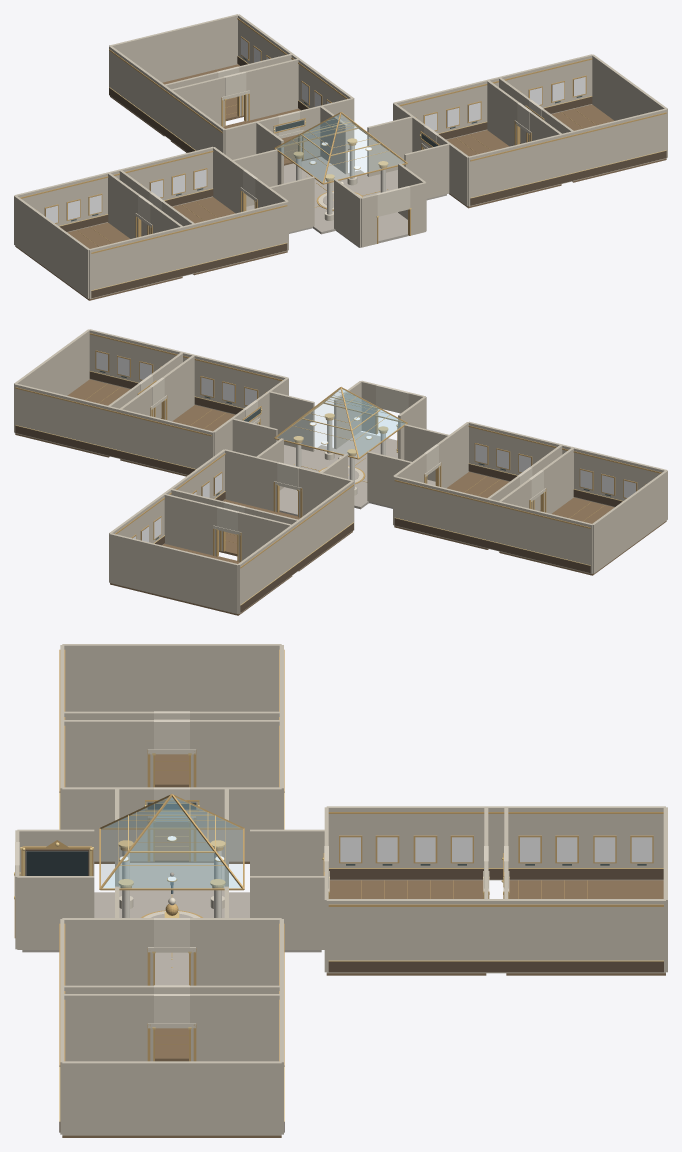
The model's file is museum.glb.
3 renders of one model, top to bottom at view 1: azimuth 30°, elevation 25°; view 2: azimuth 150°, elevation 25°; view 3: azimuth 270°, elevation 25°, orthographic. The views are drawn at different scales.
Visible parts, largest first — view 1: ARCHITECTURE · stone, plaster, parquet and gilt, INTERIOR DETAILS · cornices, pilasters, frames and trim, COUR NAPOLÉON · glass pyramid, ARTWORK FRAMES · empty replaceable slots; view 2: ARCHITECTURE · stone, plaster, parquet and gilt, INTERIOR DETAILS · cornices, pilasters, frames and trim, COUR NAPOLÉON · glass pyramid, ARTWORK FRAMES · empty replaceable slots; view 3: ARCHITECTURE · stone, plaster, parquet and gilt, INTERIOR DETAILS · cornices, pilasters, frames and trim, COUR NAPOLÉON · glass pyramid, ARTWORK FRAMES · empty replaceable slots, VIDEO_SURFACE_MAIN.
Boxes of the visible parts, x1,y1,x2,y2 form: ARCHITECTURE · stone, plaster, parquet and gilt: (14,14,667,300); INTERIOR DETAILS · cornices, pilasters, frames and trim: (20,18,666,298); COUR NAPOLÉON · glass pyramid: (276,114,404,181); ARTWORK FRAMES · empty replaceable slots: (36,36,586,223); ARCHITECTURE · stone, plaster, parquet and gilt: (14,329,667,615); INTERIOR DETAILS · cornices, pilasters, frames and trim: (15,333,661,612); COUR NAPOLÉON · glass pyramid: (277,389,405,456); ARTWORK FRAMES · empty replaceable slots: (95,350,645,540); ARCHITECTURE · stone, plaster, parquet and gilt: (15,644,667,1137); INTERIOR DETAILS · cornices, pilasters, frames and trim: (14,649,663,1132); COUR NAPOLÉON · glass pyramid: (101,797,242,887); ARTWORK FRAMES · empty replaceable slots: (22,800,653,887); VIDEO_SURFACE_MAIN: (26,851,88,875).
Bounding box in the file's own units: 99.42 × 14.93 × 65.55.
